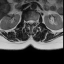CCS_normal: (30, 17, 32, 27)
LFS_normal: (34, 19, 36, 24)
LLS_normal: (32, 19, 34, 25)
RFS_normal: (25, 19, 28, 25)
RLS_normal: (28, 18, 30, 25)
